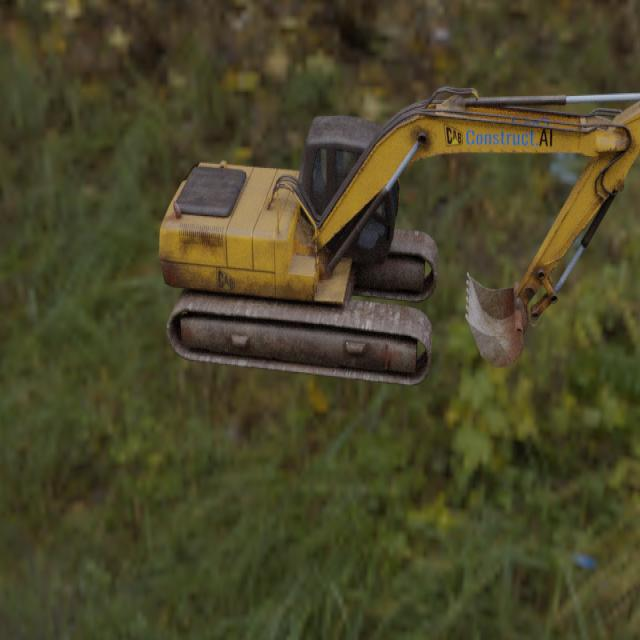excavator: (158, 85, 640, 387)
